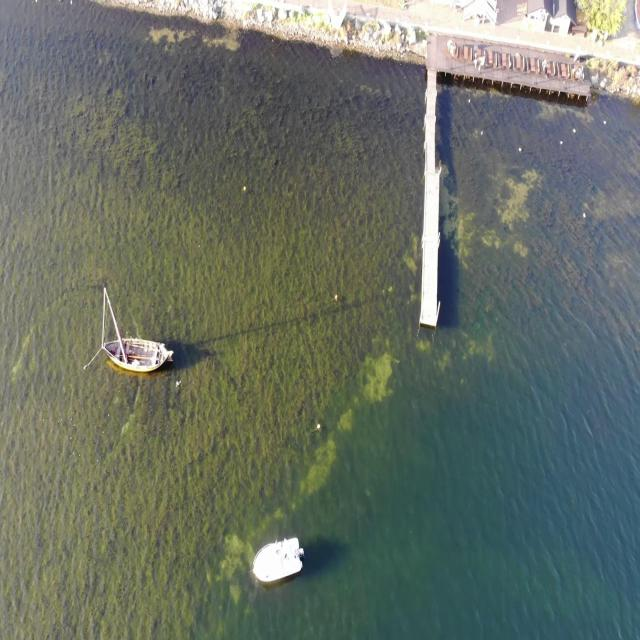boat: (251, 533, 305, 585)
bouy: (334, 291, 338, 305), (316, 421, 320, 432), (242, 184, 246, 192)
sailboat: (100, 284, 174, 375)
